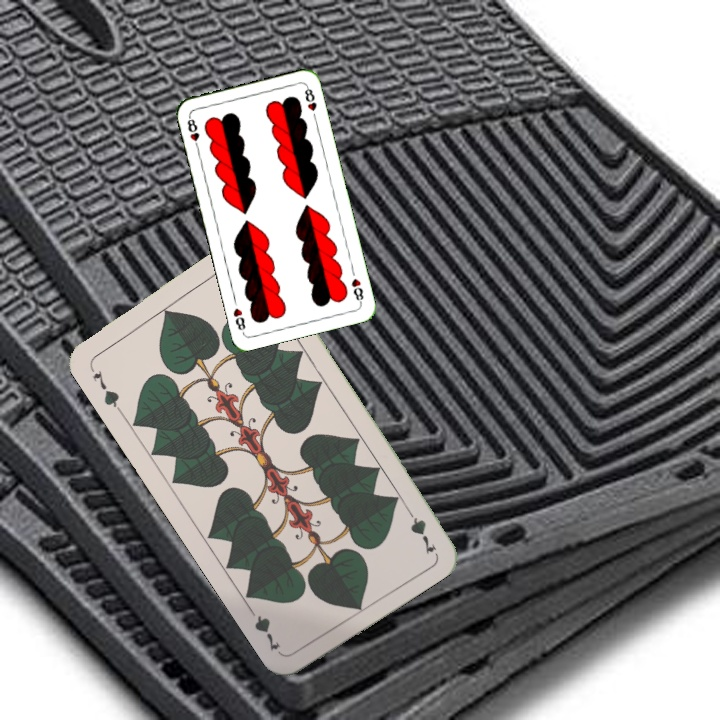G7: (400, 501, 439, 558), (85, 361, 123, 414)
H8: (183, 112, 202, 152), (347, 274, 366, 306)
